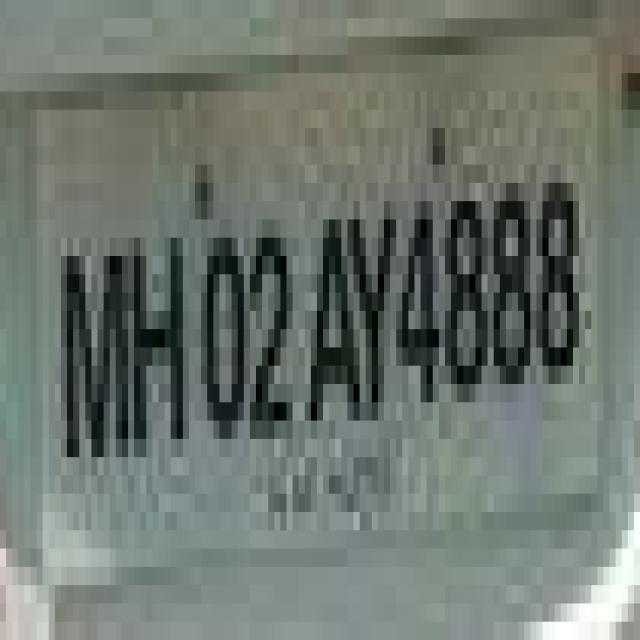license_plate: (0, 55, 640, 567)
